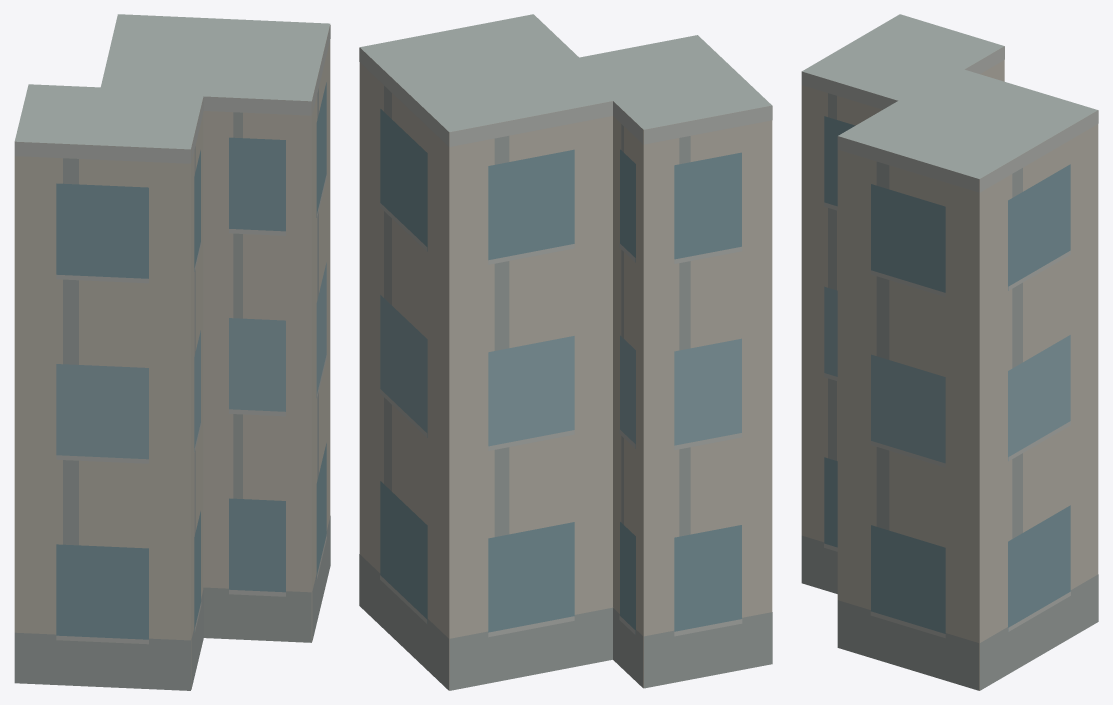
File: survey-upis-32821693.glb
3 renders of one model, left to right at view 1: azimuth 30°, elevation 25°; view 2: azimuth 150°, elevation 25°; view 3: azimuth 270°, elevation 25°, orthographic. The views are drawn at different scales.
Parts seen in each view (by area): view 1: survey-upis-32821693.tmp; view 2: survey-upis-32821693.tmp; view 3: survey-upis-32821693.tmp.
Boxes of the visible parts, x1=… form: survey-upis-32821693.tmp: x1=14, y1=14, x2=330, y2=690; survey-upis-32821693.tmp: x1=359, y1=14, x2=772, y2=690; survey-upis-32821693.tmp: x1=801, y1=14, x2=1098, y2=690.
Size of the model in its own units: 6.34 by 9.15 by 4.82.
